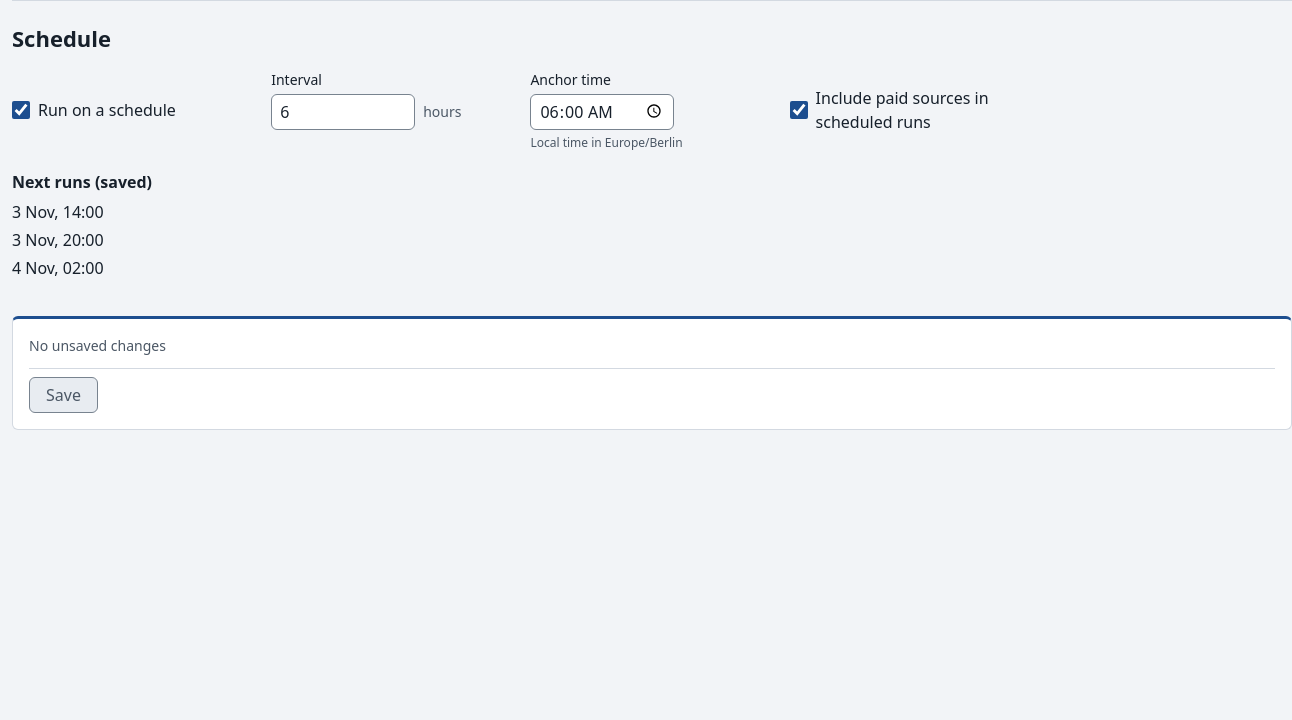
Test: useSettingsForm › the dry run is debounced 500 ms
Replace the text in the number field labelled "Interval" with "8" at (343, 112), box [271,94,415,130]
Wait 300 ms
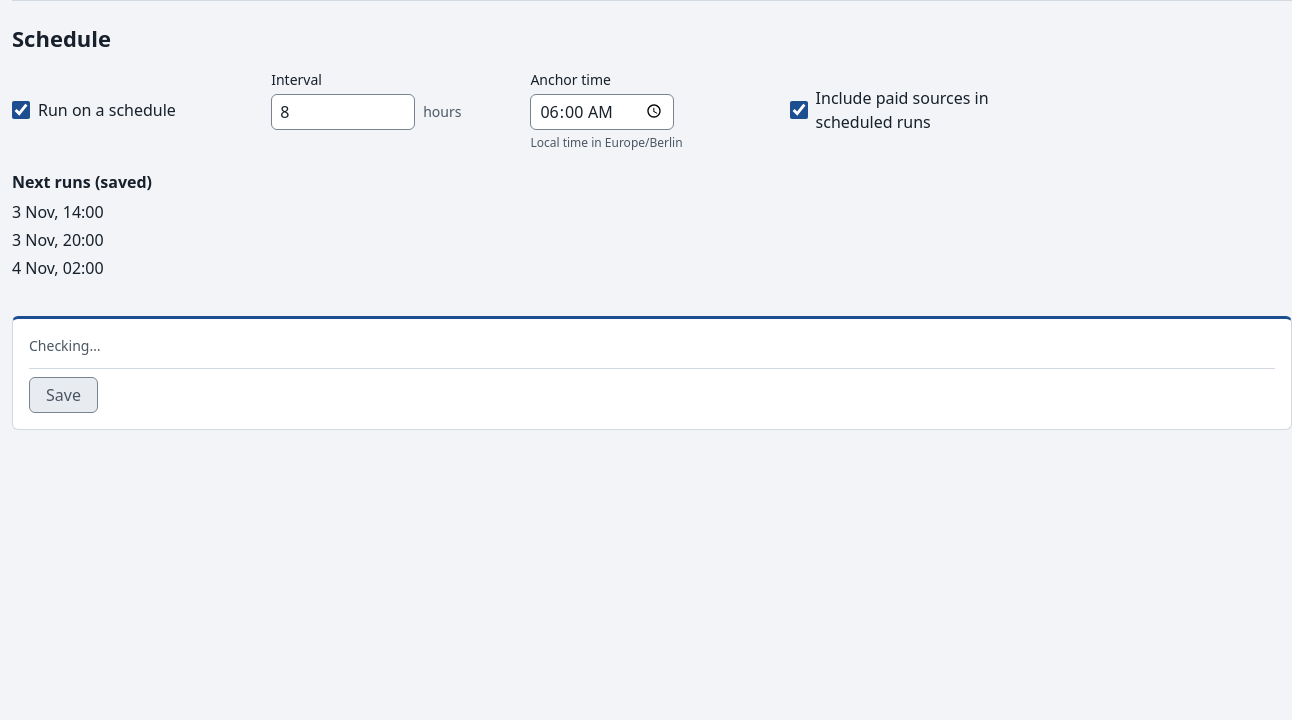
Replace the text in the number field labelled "Interval" with "9" at (343, 112), box [271,94,415,130]
Wait 500 ms
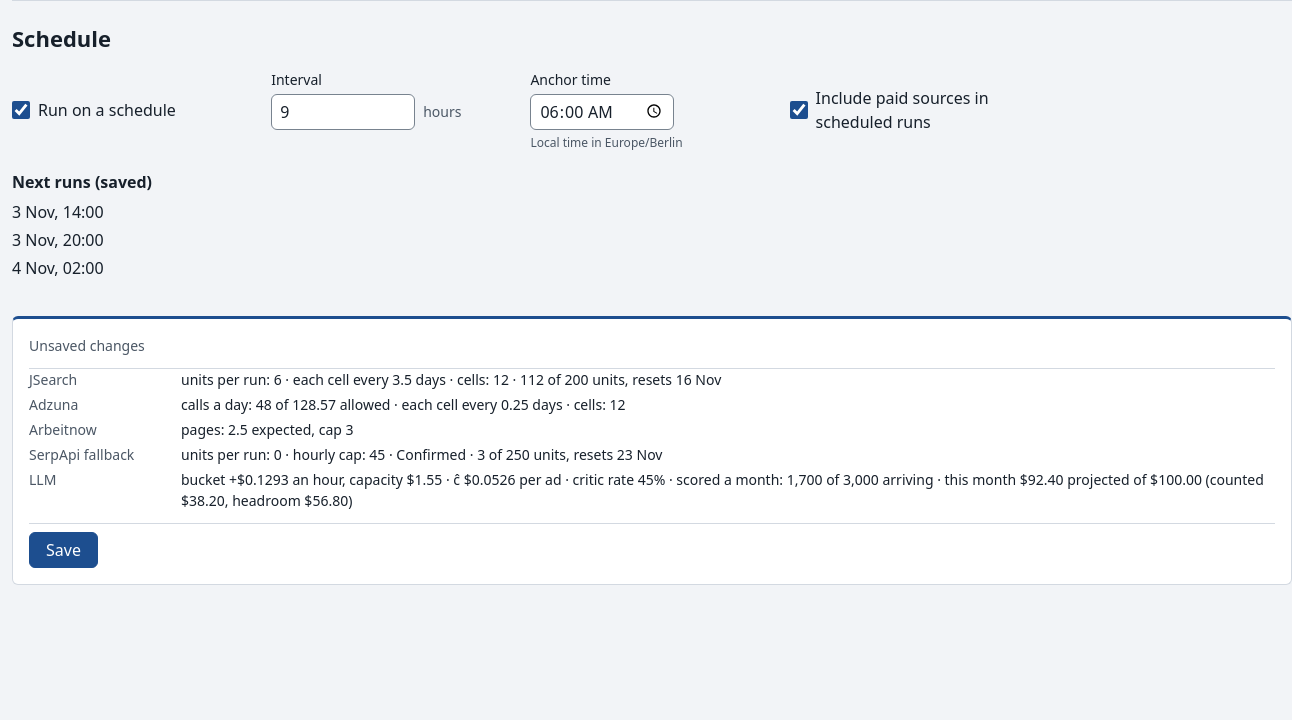
back to the base: no dry-run
Replace the text in the number field labelled "Interval" with "6" at (343, 112), box [271,94,415,130]
Wait 2000 ms
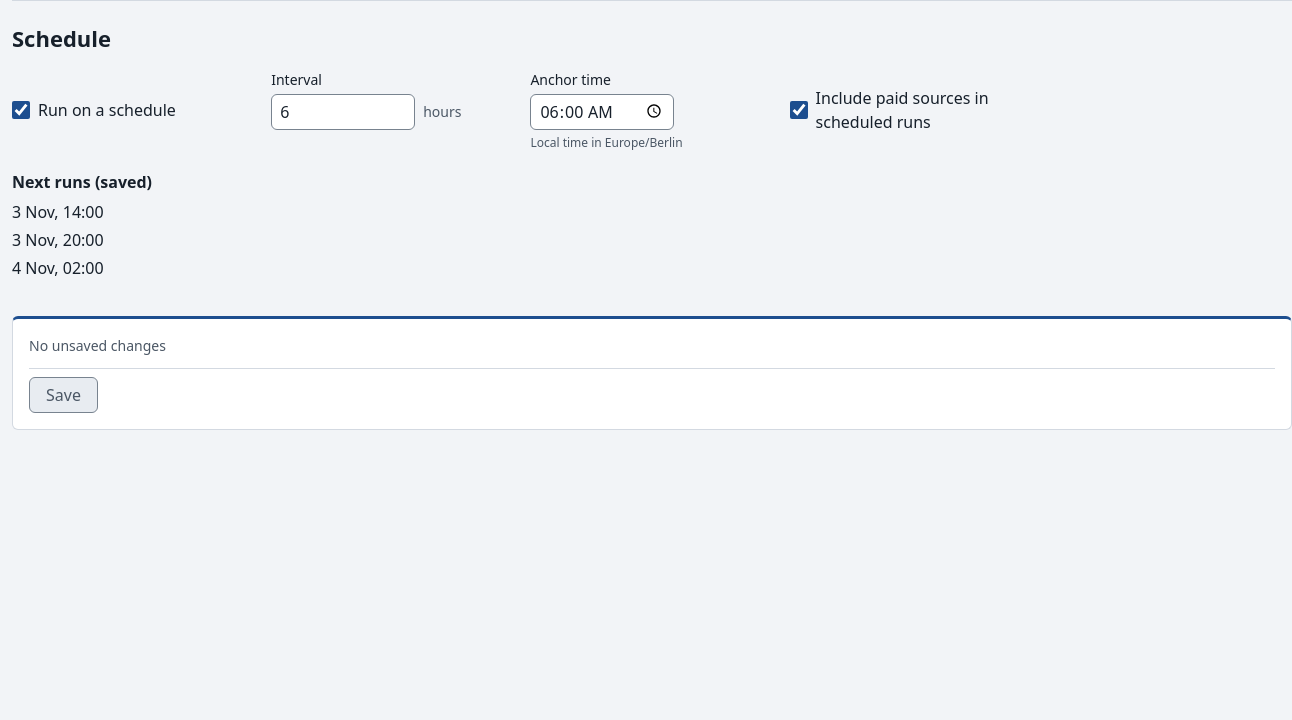
Result: the text "No unsaved changes" is shown at [29,336,166,354]
